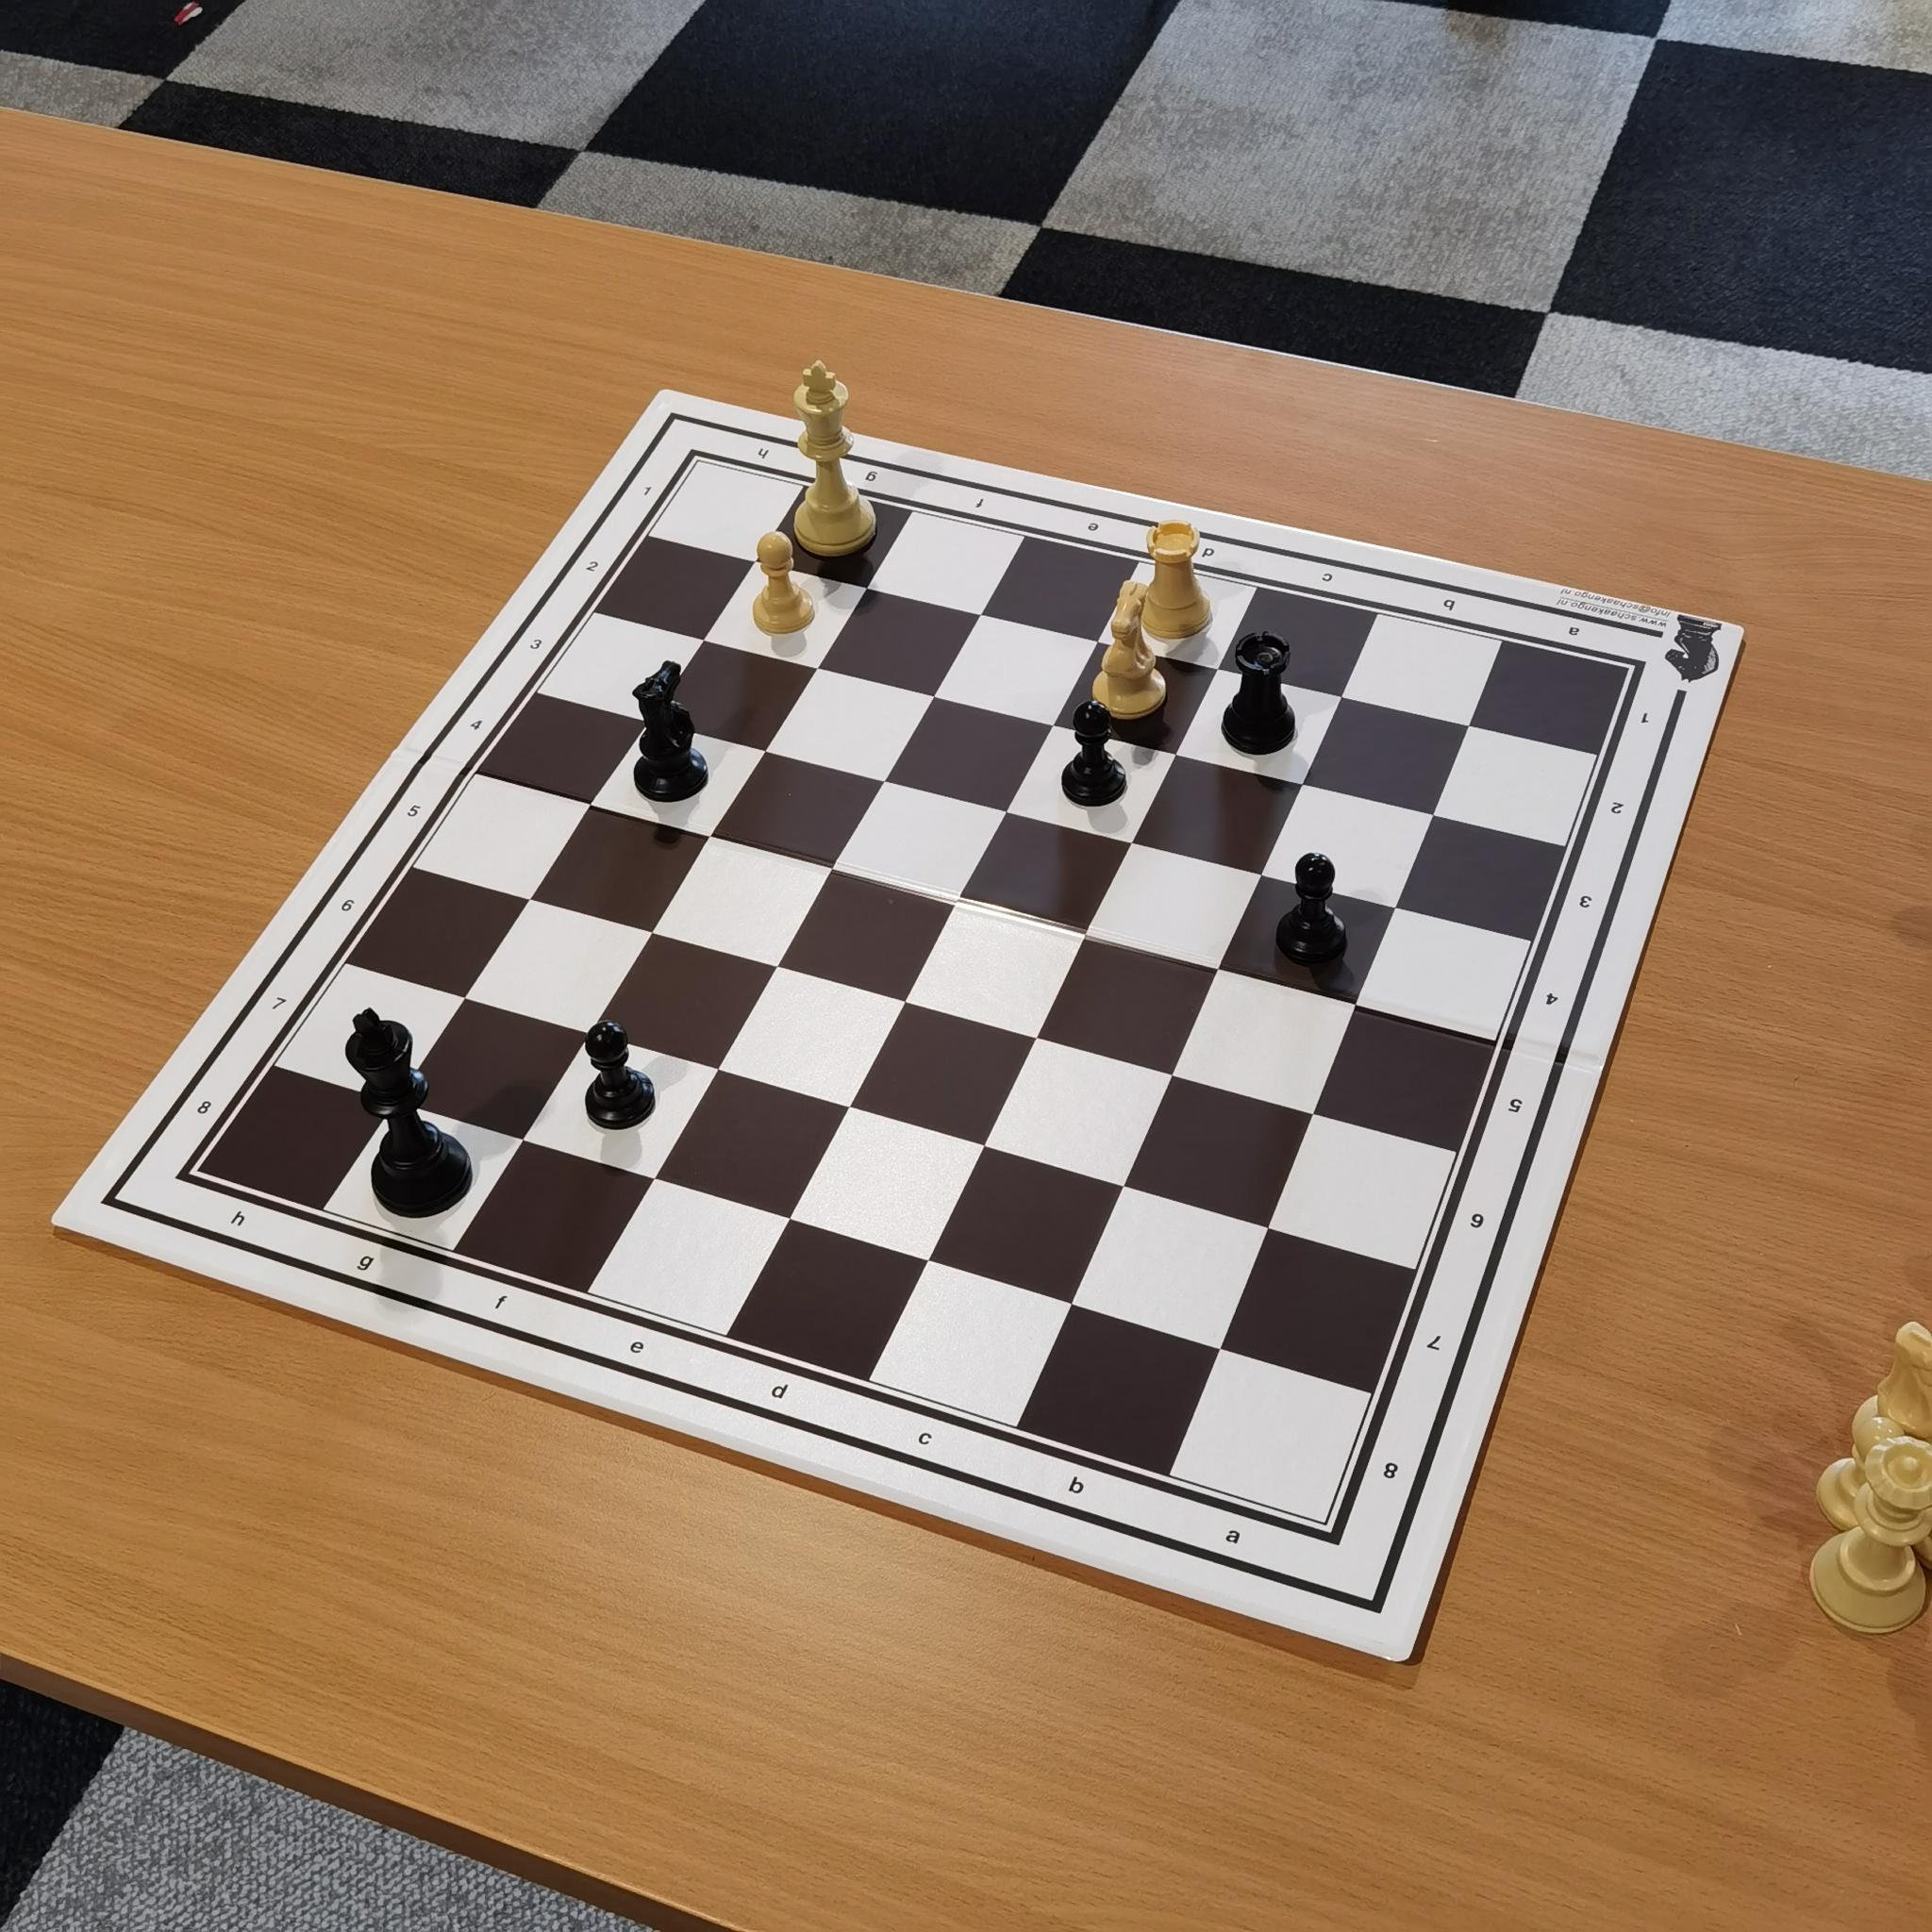corners: (1313, 1513, 1366, 1569), (1606, 649, 1667, 694), (163, 1159, 218, 1207), (678, 441, 724, 483)
eight: (182, 1074, 234, 1129), (1368, 1444, 1412, 1499)
one: (1624, 697, 1665, 745), (632, 478, 667, 513)
